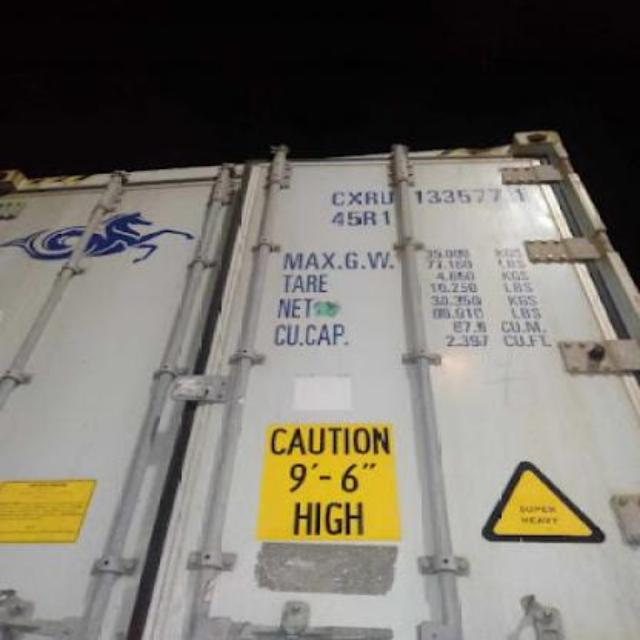1: (410, 184, 426, 208), (508, 182, 524, 204)
3: (424, 182, 440, 210), (440, 182, 456, 210)
5: (458, 182, 472, 210)
7: (486, 182, 504, 212), (470, 182, 486, 208)
C: (328, 183, 346, 207)
R: (362, 183, 380, 207)
U: (380, 182, 396, 210)
X: (346, 182, 362, 208)
